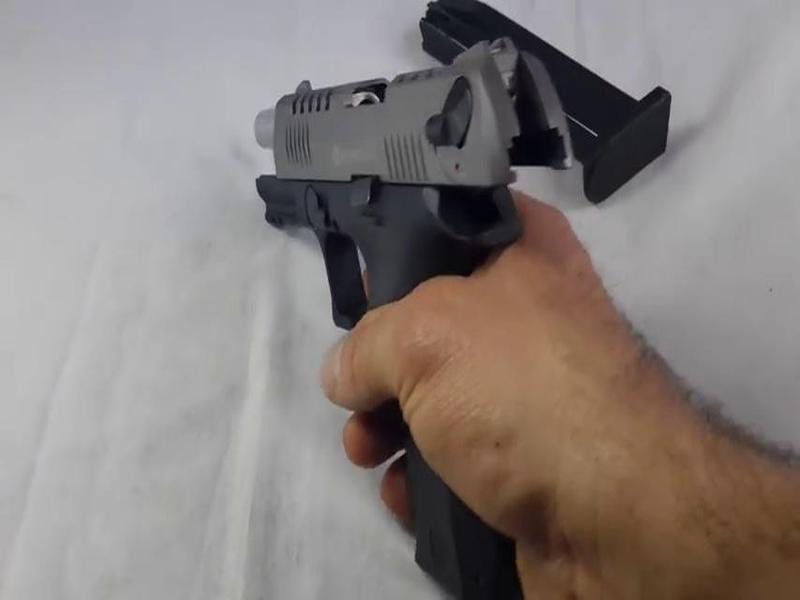Pistola: (253, 41, 583, 592)
